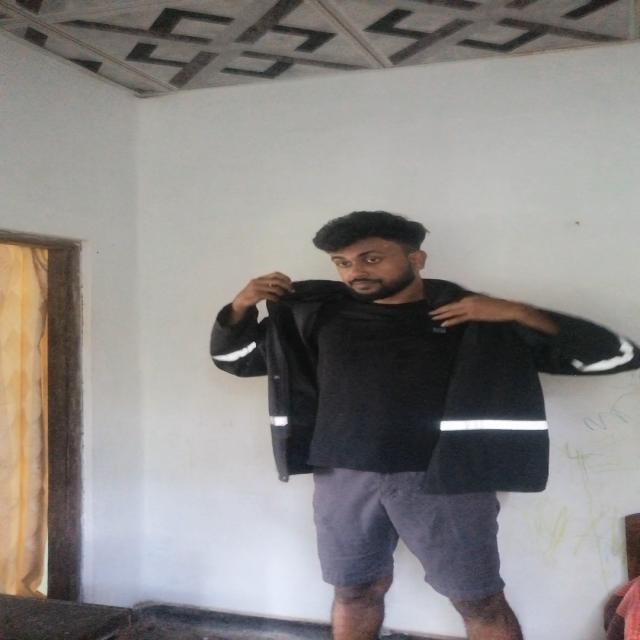Jacket_Wearer: (208, 274, 628, 496)
